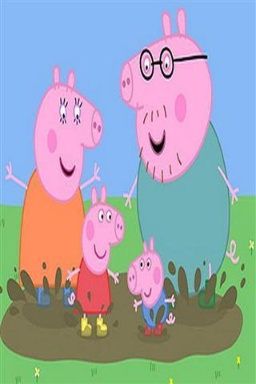Peppa: (65, 182, 128, 342)
